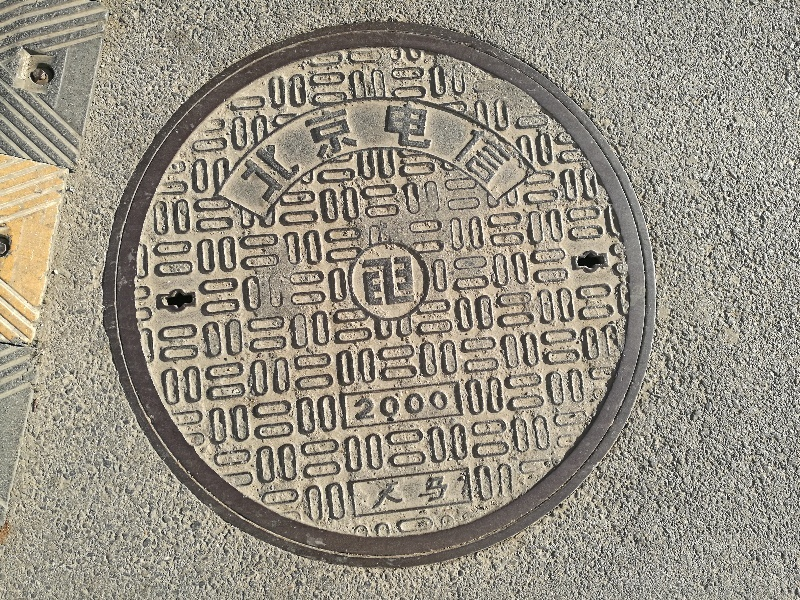text: (241, 94, 256, 207), (257, 94, 272, 207), (273, 94, 288, 207), (289, 94, 304, 207), (305, 94, 320, 207), (321, 94, 336, 207), (337, 94, 352, 207), (353, 94, 368, 207), (369, 94, 384, 207), (385, 94, 400, 207), (401, 94, 416, 207), (417, 94, 432, 207), (433, 94, 448, 207), (449, 94, 464, 207), (465, 94, 480, 207), (481, 94, 496, 207), (497, 94, 512, 207), (233, 94, 240, 207), (513, 94, 519, 207), (353, 388, 368, 422), (369, 388, 384, 422), (385, 388, 400, 422), (401, 388, 416, 422), (417, 388, 432, 422), (433, 388, 448, 422), (385, 476, 400, 509), (401, 476, 416, 509), (417, 476, 432, 509), (433, 476, 448, 509), (370, 476, 384, 509), (449, 388, 452, 422), (449, 476, 451, 509)
